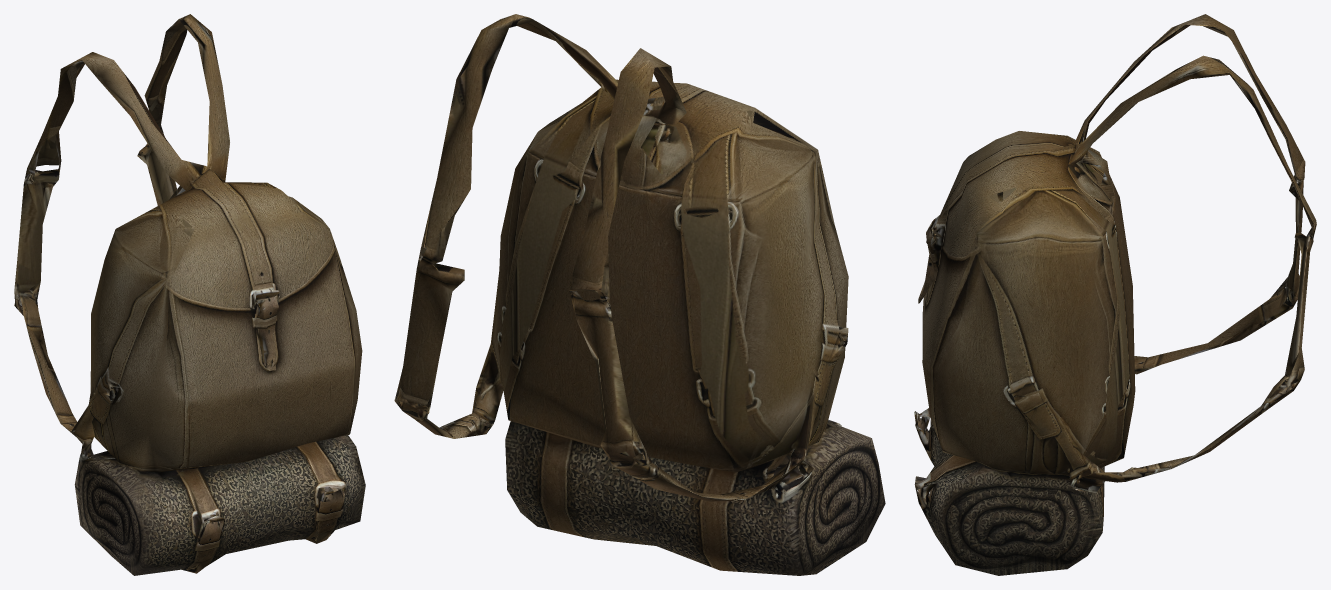
The picture shows the model from 3 angles, left to right: view 1: azimuth 30°, elevation 25°; view 2: azimuth 150°, elevation 25°; view 3: azimuth 270°, elevation 25°; orthographic projection. The views are drawn at different scales.
Visible parts, largest first — view 1: texture_mapping; view 2: texture_mapping; view 3: texture_mapping.
Part boxes in pixels (bbox=[...]): texture_mapping: bbox=[14, 14, 365, 575]; texture_mapping: bbox=[394, 14, 885, 575]; texture_mapping: bbox=[914, 14, 1316, 575].
Size of the model in its own units: 0.5866 by 0.7407 by 0.9938.
1 material, 1 textured.
